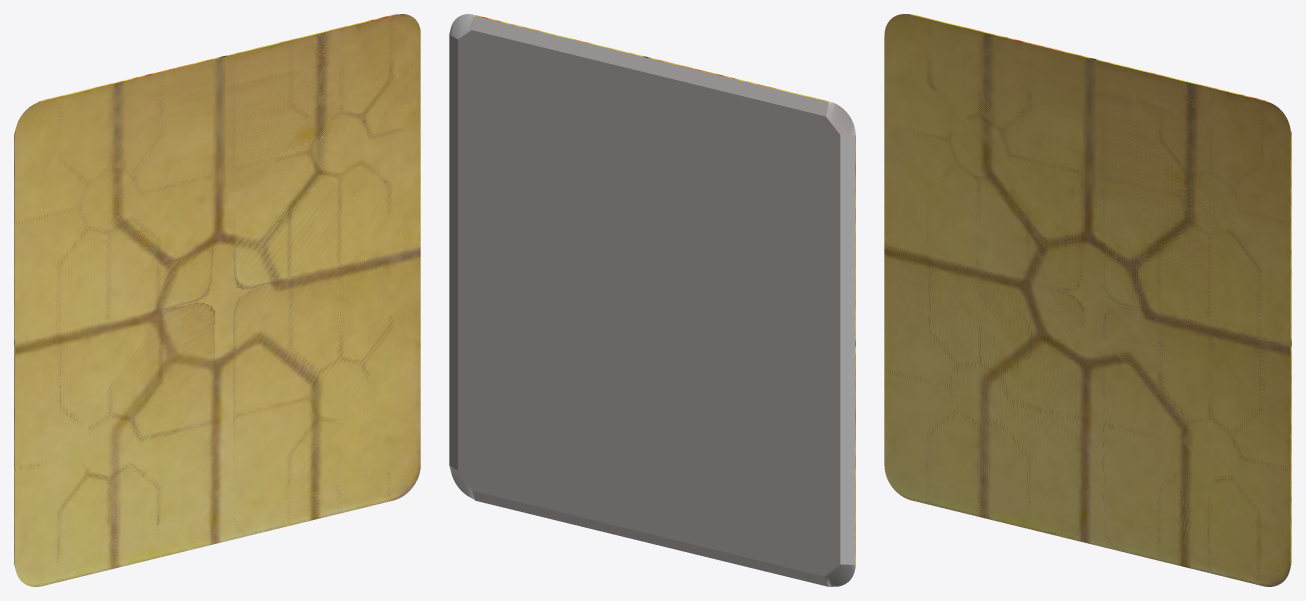
File: puce_or_ronde.dae
The picture shows the model from 3 angles, left to right: view 1: azimuth 30°, elevation 25°; view 2: azimuth 150°, elevation 25°; view 3: azimuth 330°, elevation 25°; orthographic projection.
Visible parts, largest first — view 1: SketchUp (×2); view 2: SketchUp (×3), group_0; view 3: SketchUp (×3).
Part boxes in pixels (x1=…): SketchUp (×2): x1=15, y1=14, x2=420, y2=586; SketchUp (×3): x1=449, y1=15, x2=854, y2=586; group_0: x1=826, y1=101, x2=855, y2=135; SketchUp (×3): x1=884, y1=14, x2=1291, y2=586.
Size of the model in its own units: 41.39 by 0.6817 by 47.27.
Materials: 5 (3 with a texture image).
